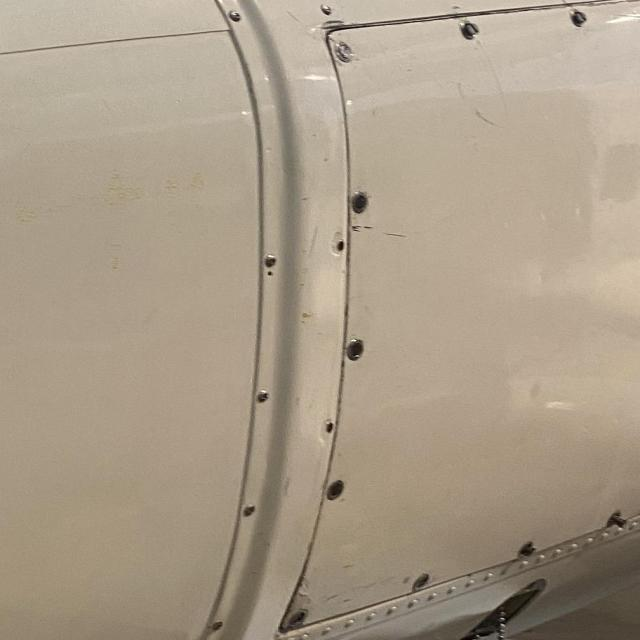Paint-off: (286, 592, 312, 618), (299, 577, 312, 592)
